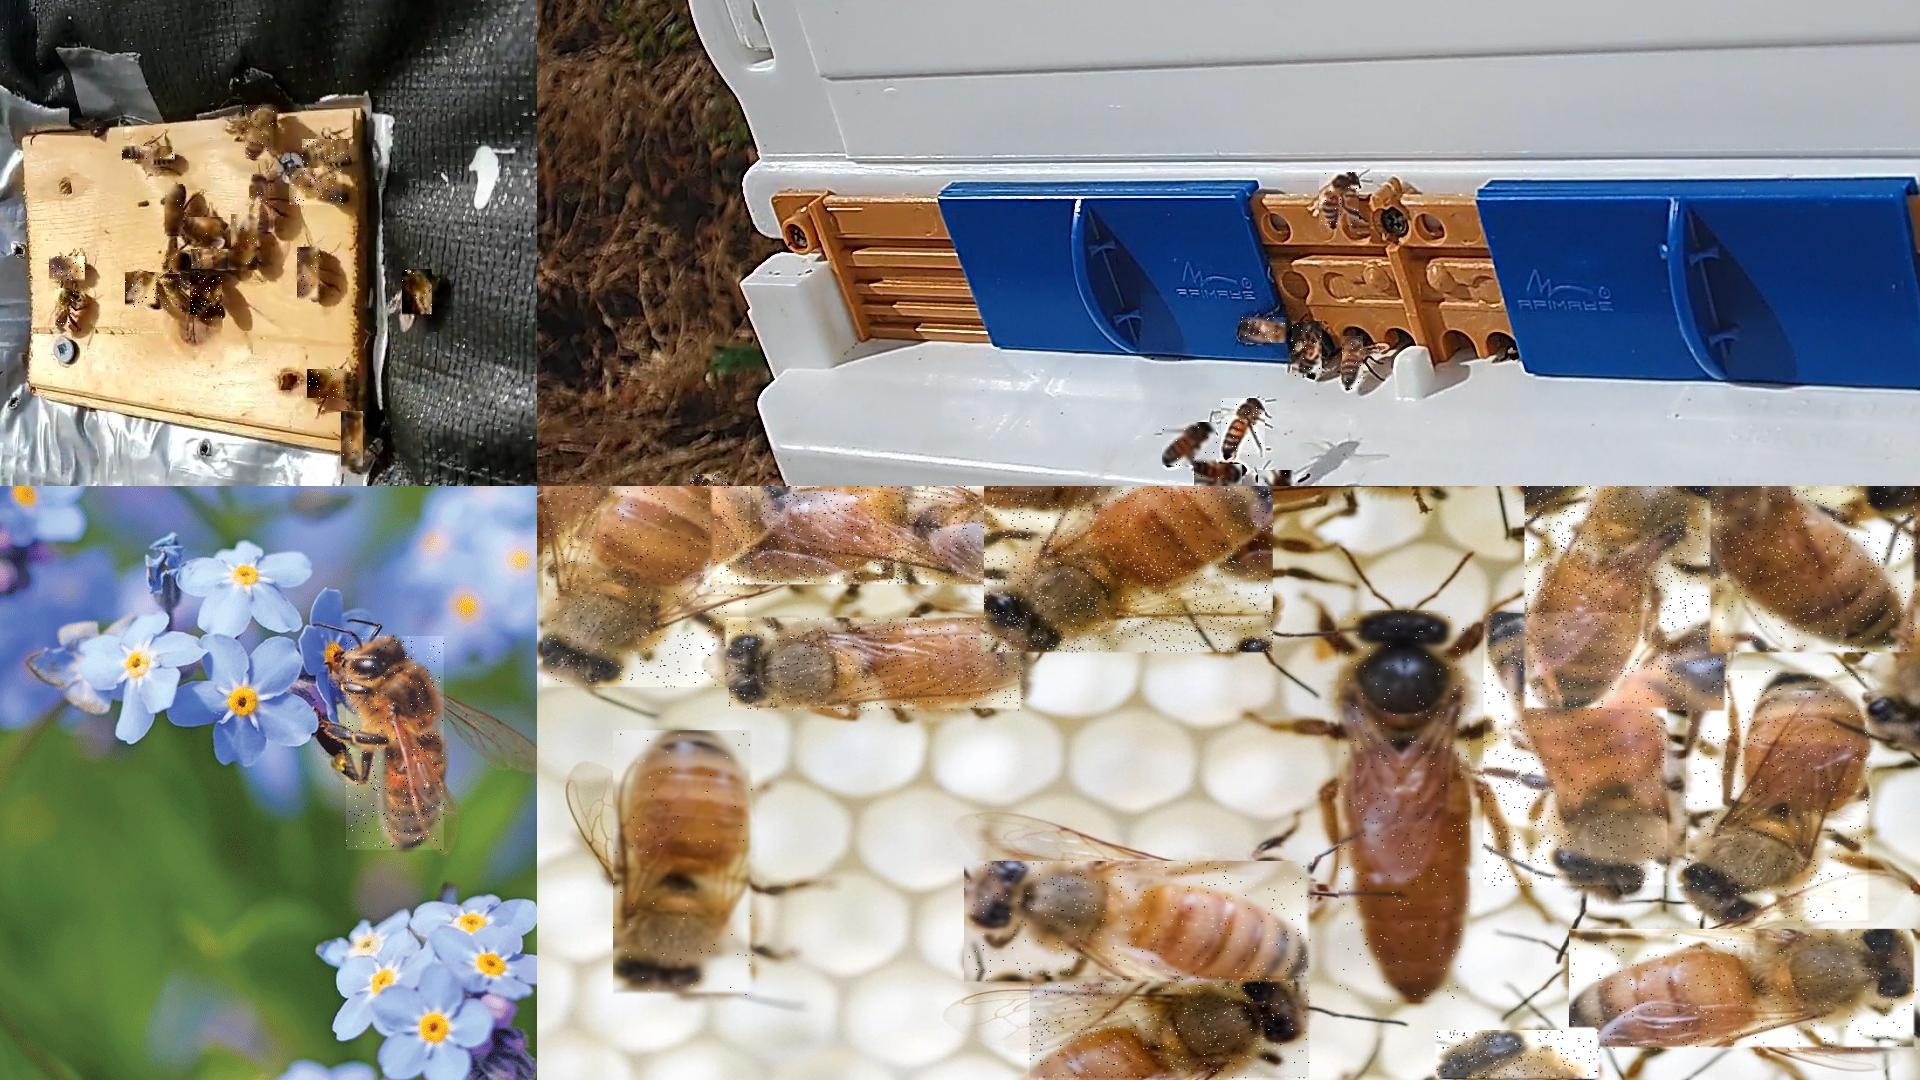bee: (1484, 613, 1668, 889), (985, 487, 1274, 654), (1687, 670, 1870, 922), (1524, 487, 1727, 712), (1571, 928, 1919, 1052), (965, 861, 1313, 982), (545, 487, 750, 688), (615, 732, 756, 997), (1712, 487, 1920, 654), (713, 487, 1055, 585), (1030, 976, 1311, 1079), (731, 618, 1026, 712), (345, 637, 446, 852), (1436, 1030, 1601, 1079), (1221, 398, 1266, 458), (1163, 423, 1218, 468), (1319, 173, 1361, 228), (290, 167, 345, 206), (245, 105, 277, 160), (231, 214, 258, 272), (190, 276, 223, 322), (402, 270, 433, 319), (251, 174, 274, 233), (298, 248, 323, 303), (1241, 316, 1290, 344), (342, 411, 364, 471), (302, 140, 351, 166), (307, 369, 349, 400), (125, 273, 161, 309), (1342, 336, 1364, 390), (1193, 464, 1244, 485), (165, 185, 185, 237), (49, 257, 86, 284), (164, 274, 187, 315), (186, 218, 225, 241), (123, 146, 177, 164), (55, 289, 76, 332), (191, 249, 232, 270), (1258, 469, 1298, 485), (166, 251, 187, 272)
pollenbee: (1292, 322, 1323, 378), (690, 473, 729, 485)
queen: (1338, 611, 1470, 1004)
